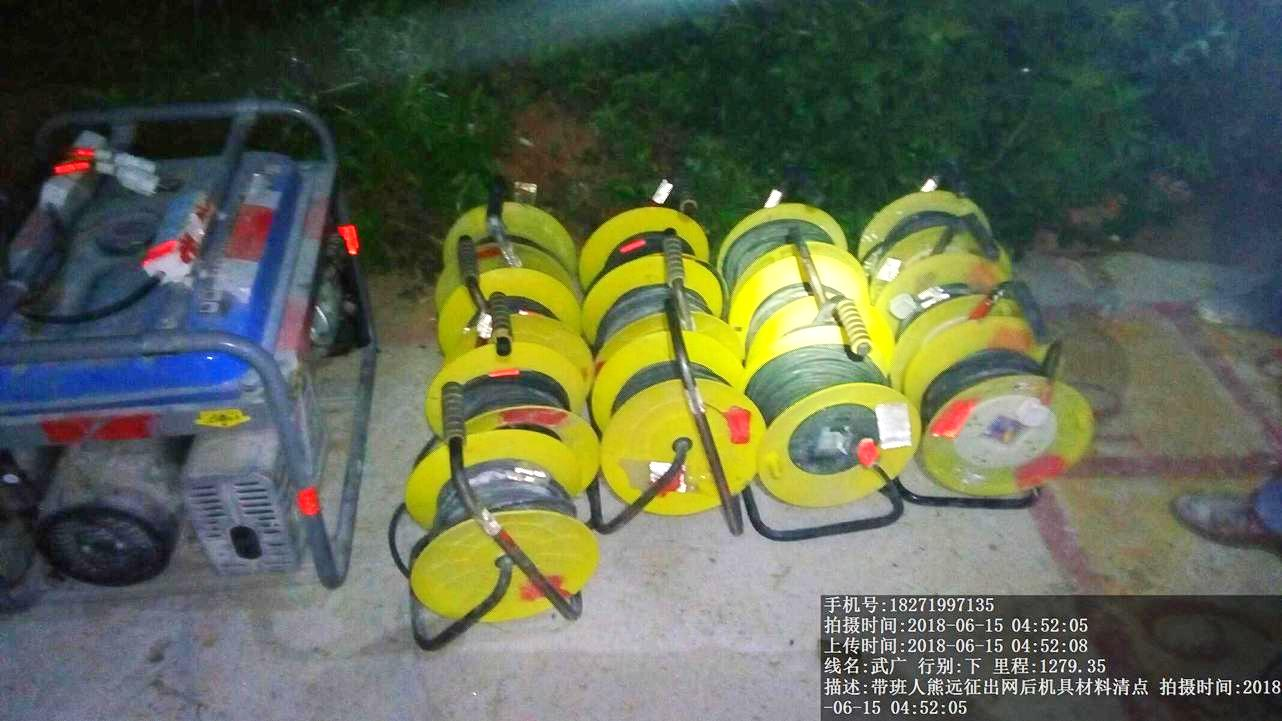DJ: (18, 137, 395, 622)
DX: (380, 444, 597, 626), (743, 321, 919, 526), (916, 327, 1096, 507), (601, 343, 767, 514)
